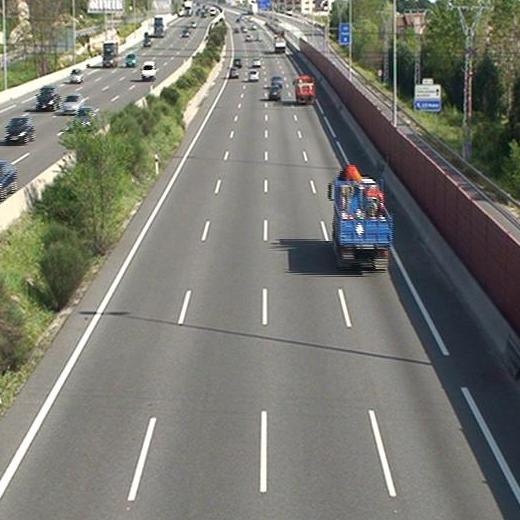car: (269, 85, 280, 99), (248, 69, 258, 81), (229, 68, 239, 79), (270, 76, 280, 87), (251, 58, 261, 66), (232, 58, 241, 66)
small-truck: (331, 177, 390, 270), (295, 75, 314, 106)
